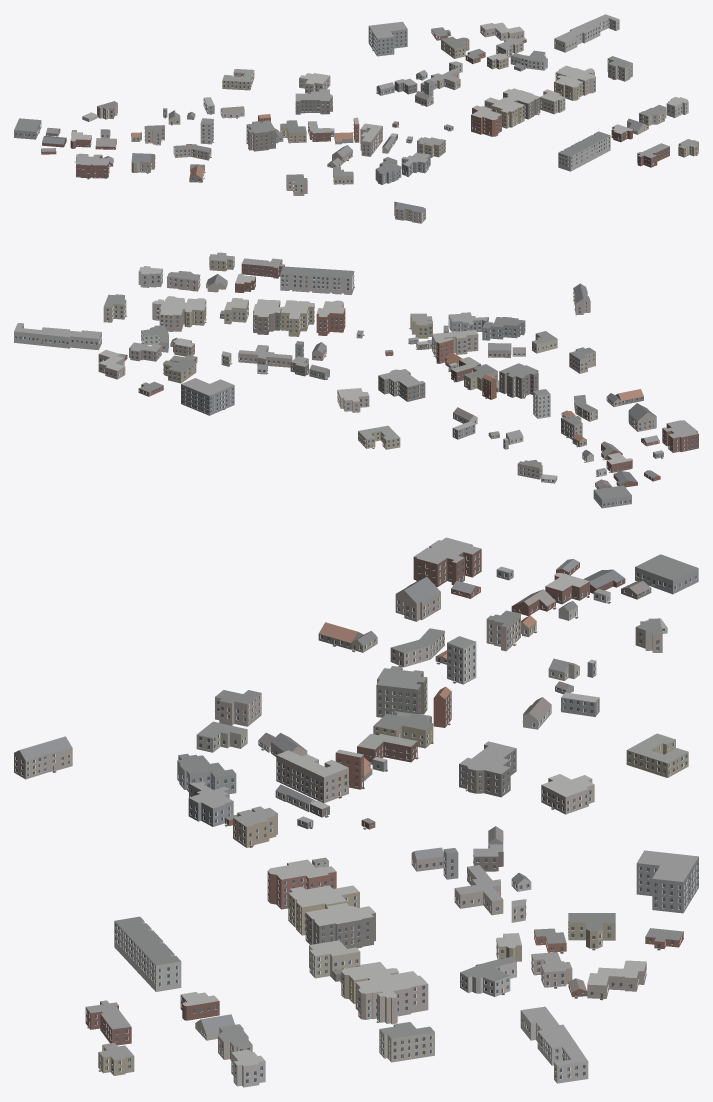
3 renders of one model, top to bottom at view 1: azimuth 30°, elevation 25°; view 2: azimuth 150°, elevation 25°; view 3: azimuth 270°, elevation 25°, orthographic. The views are drawn at different scales.
Parts seen in each view (by area): view 1: way/377184277, way/1467160808, way/1467160782, way/692650447, way/692808984, way/556875190, way/556875185, way/692815866, way/556869779, way/692650444, way/556869782, way/747439973 (+24 smaller); view 2: way/377184277, way/1467160808, way/1467160782, way/692808984, way/692650447, way/556875185, way/692815866, way/556869782, way/556869779, way/556875190, way/556875184, way/692650444 (+28 smaller); view 3: way/1467160782, way/377184277, way/556869782, way/1467160808, way/692650444, way/556869779, way/692815866, way/692650447, way/692808984, way/556875190, way/747439973, way/556875185 (+28 smaller).
Part boxes in pixels (left/top/right/bottom): way/377184277: left=558, top=131, right=610, bottom=171; way/1467160808: left=554, top=14, right=619, bottom=52; way/1467160782: left=368, top=21, right=407, bottom=56; way/692650447: left=295, top=89, right=332, bottom=114; way/692808984: left=246, top=120, right=275, bottom=151; way/556875190: left=471, top=105, right=501, bottom=136; way/556875185: left=484, top=97, right=524, bottom=128; way/692815866: left=76, top=153, right=109, bottom=179; way/556869779: left=503, top=88, right=540, bottom=119; way/692650444: left=360, top=123, right=382, bottom=156; way/556869782: left=555, top=65, right=595, bottom=95; way/747439973: left=222, top=69, right=254, bottom=90; way/377184277: left=280, top=266, right=354, bottom=294; way/1467160808: left=14, top=323, right=101, bottom=350; way/1467160782: left=181, top=378, right=234, bottom=415; way/692808984: left=499, top=363, right=538, bottom=398; way/692650447: left=378, top=369, right=425, bottom=401; way/556875185: left=280, top=300, right=314, bottom=336; way/692815866: left=662, top=420, right=698, bottom=452; way/556869782: left=152, top=296, right=185, bottom=331; way/556869779: left=253, top=299, right=281, bottom=334; way/556875190: left=316, top=300, right=345, bottom=335; way/556875184: left=482, top=317, right=525, bottom=340; way/692650444: left=432, top=330, right=478, bottom=358; way/1467160782: left=636, top=850, right=698, bottom=913; way/377184277: left=114, top=916, right=181, bottom=991; way/556869782: left=355, top=971, right=428, bottom=1024; way/1467160808: left=520, top=1006, right=588, bottom=1083; way/692650444: left=276, top=750, right=348, bottom=803; way/556869779: left=305, top=903, right=375, bottom=948; way/692815866: left=413, top=537, right=481, bottom=587; way/692650447: left=459, top=741, right=516, bottom=797; way/692808984: left=376, top=666, right=427, bottom=717; way/556875190: left=267, top=859, right=336, bottom=909; way/747439973: left=626, top=733, right=688, bottom=777; way/556875185: left=288, top=885, right=359, bottom=935.
Bounding box in the file's own units: 511 × 45.64 × 298.
